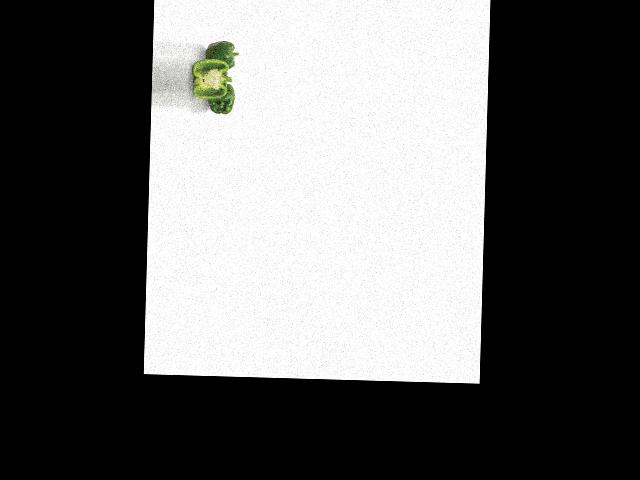bell_pepper: (204, 80, 238, 117)
